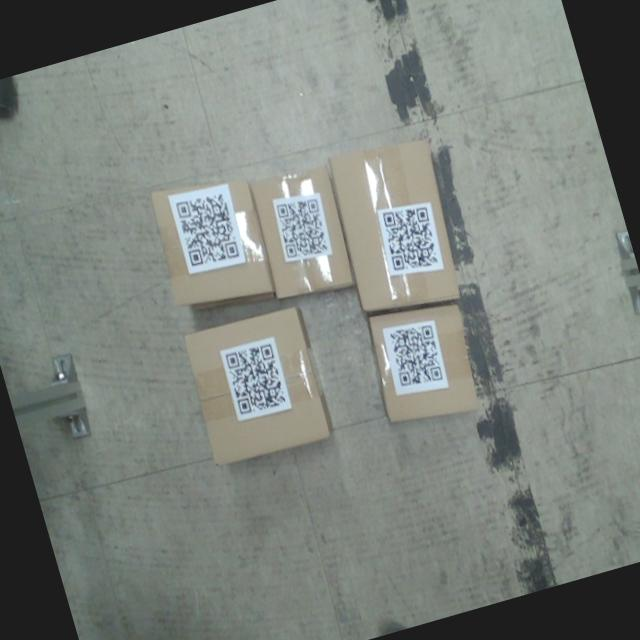box: (320, 129, 472, 325), (179, 301, 336, 470), (140, 162, 282, 324), (357, 292, 490, 436), (244, 158, 364, 306)
